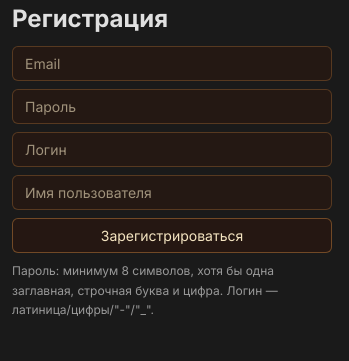
Test: RegisterForm › should show error on failed registration
The image size is (349, 361).
Type "test@example.com" into the field with placeholder "Email". click: (172, 64)
box: [12,46,332,81]
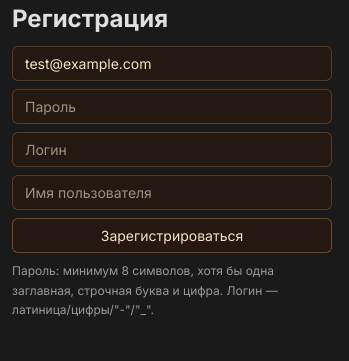
Type "Password123" into the password field with placeholder "Пароль". click: (172, 107)
box: [12,89,332,124]
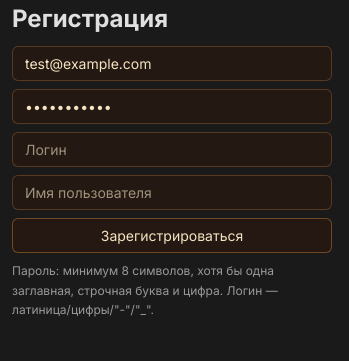
Click the button "Зарегистрироваться". click: click(172, 236)
box: [12,218,332,253]
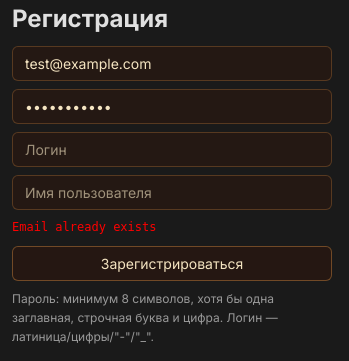
Expected: the text "Email already exists" is shown, [12,220,156,234]
